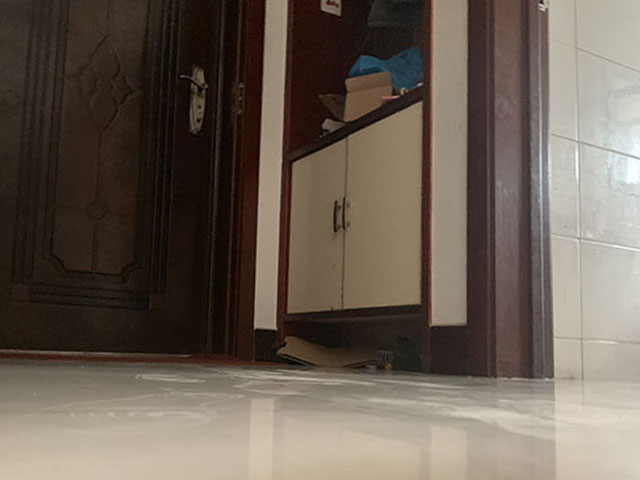cabinet: (272, 78, 435, 370)
carpet: (1, 348, 305, 367)
